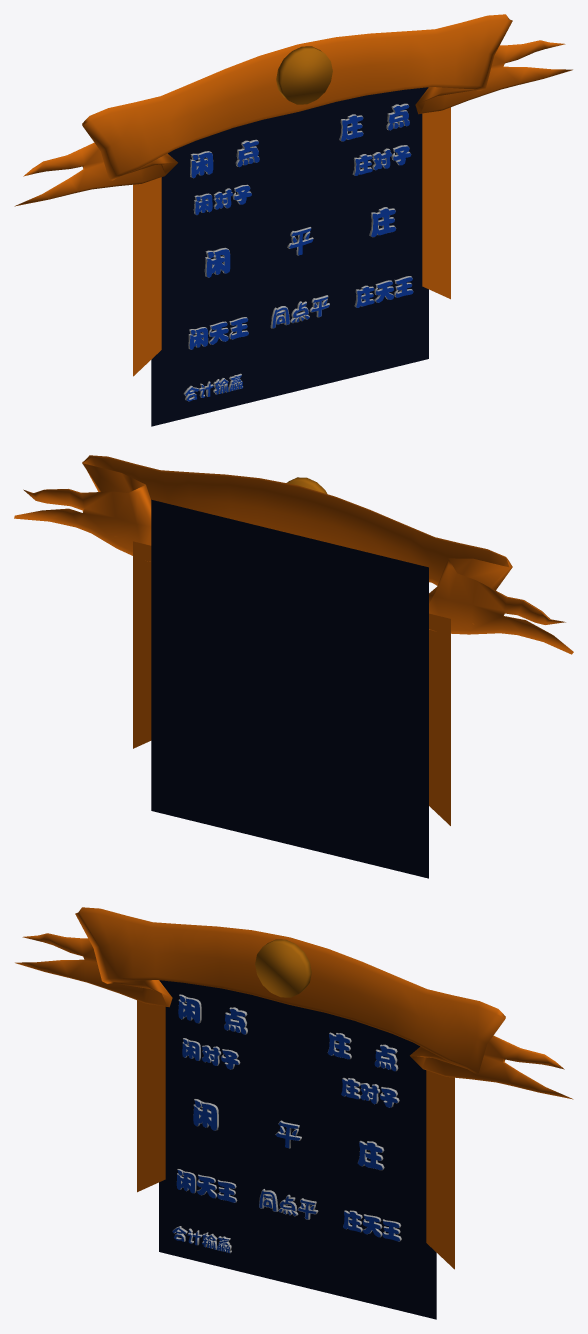
Rendered from mianban 1.FBX.
3 renders of one model, top to bottom at view 1: azimuth 30°, elevation 25°; view 2: azimuth 150°, elevation 25°; view 3: azimuth 330°, elevation 25°, orthographic.
Visible parts, largest first — view 1: Plane, BezierCurve.002, BezierCurve.000, BezierCurve.001, Text.003_Mesh.000, Text.002_Mesh.000, Text.013_Mesh.001, Text.012_Mesh.000, Text.006, Text.002, Text.000_Mesh.002; view 2: Plane, BezierCurve.002, BezierCurve.000; view 3: Plane, BezierCurve.002, BezierCurve.000, BezierCurve.001, Text.003_Mesh.000, Text.002_Mesh.000, Text.013_Mesh.001, Text.012_Mesh.000, Text.006, Text.002.
Part boxes in pixels (<box>): Plane: <box>151,87,428,426</box>; BezierCurve.002: <box>14,14,572,206</box>; BezierCurve.000: <box>133,107,450,376</box>; BezierCurve.001: <box>276,46,332,104</box>; Text.003_Mesh.000: <box>189,318,248,349</box>; Text.002_Mesh.000: <box>356,277,413,307</box>; Text.013_Mesh.001: <box>195,186,251,214</box>; Text.012_Mesh.000: <box>354,146,410,175</box>; Text.006: <box>270,295,329,328</box>; Text.002: <box>272,297,329,328</box>; Text.000_Mesh.002: <box>206,249,230,277</box>; Plane: <box>151,499,428,878</box>; BezierCurve.002: <box>14,455,573,654</box>; BezierCurve.000: <box>133,541,450,825</box>; Plane: <box>159,980,436,1319</box>; BezierCurve.002: <box>15,907,573,1099</box>; BezierCurve.000: <box>137,1000,454,1269</box>; BezierCurve.001: <box>255,939,311,997</box>; Text.003_Mesh.000: <box>176,1170,235,1202</box>; Text.002_Mesh.000: <box>343,1211,399,1241</box>; Text.013_Mesh.001: <box>182,1039,238,1069</box>; Text.012_Mesh.000: <box>341,1079,397,1107</box>; Text.006: <box>259,1189,318,1219</box>; Text.002: <box>259,1190,316,1219</box>.
Bounding box in the file's own units: 563 × 341 × 29.46.
